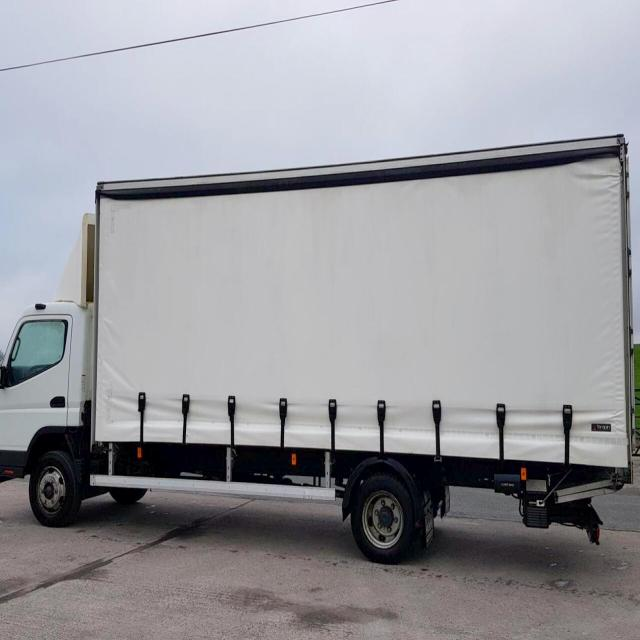truck: (1, 136, 633, 561)
